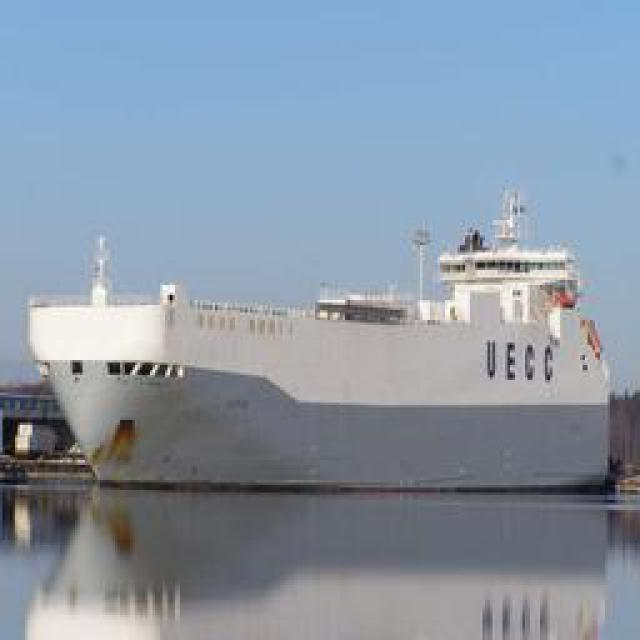Ship: (30, 178, 628, 543)
